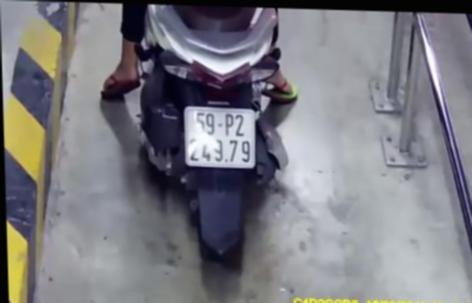License_Plate: (180, 102, 260, 174)
